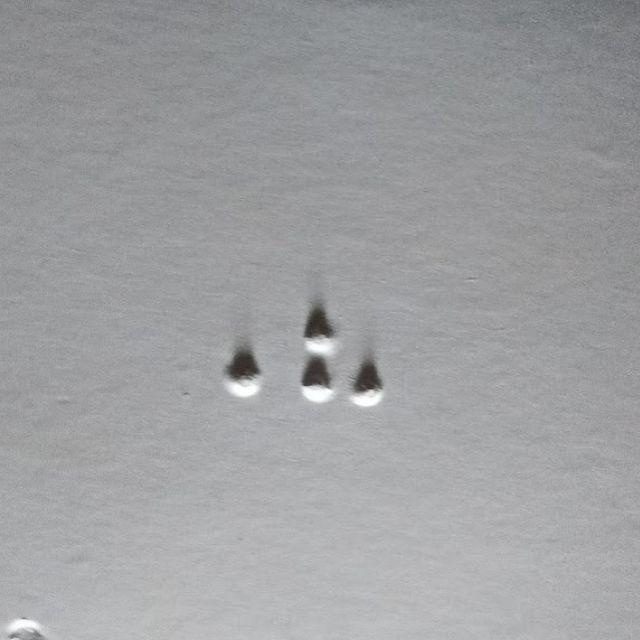dot_5: (184, 321, 264, 458)
hapon: (303, 319, 382, 456)
